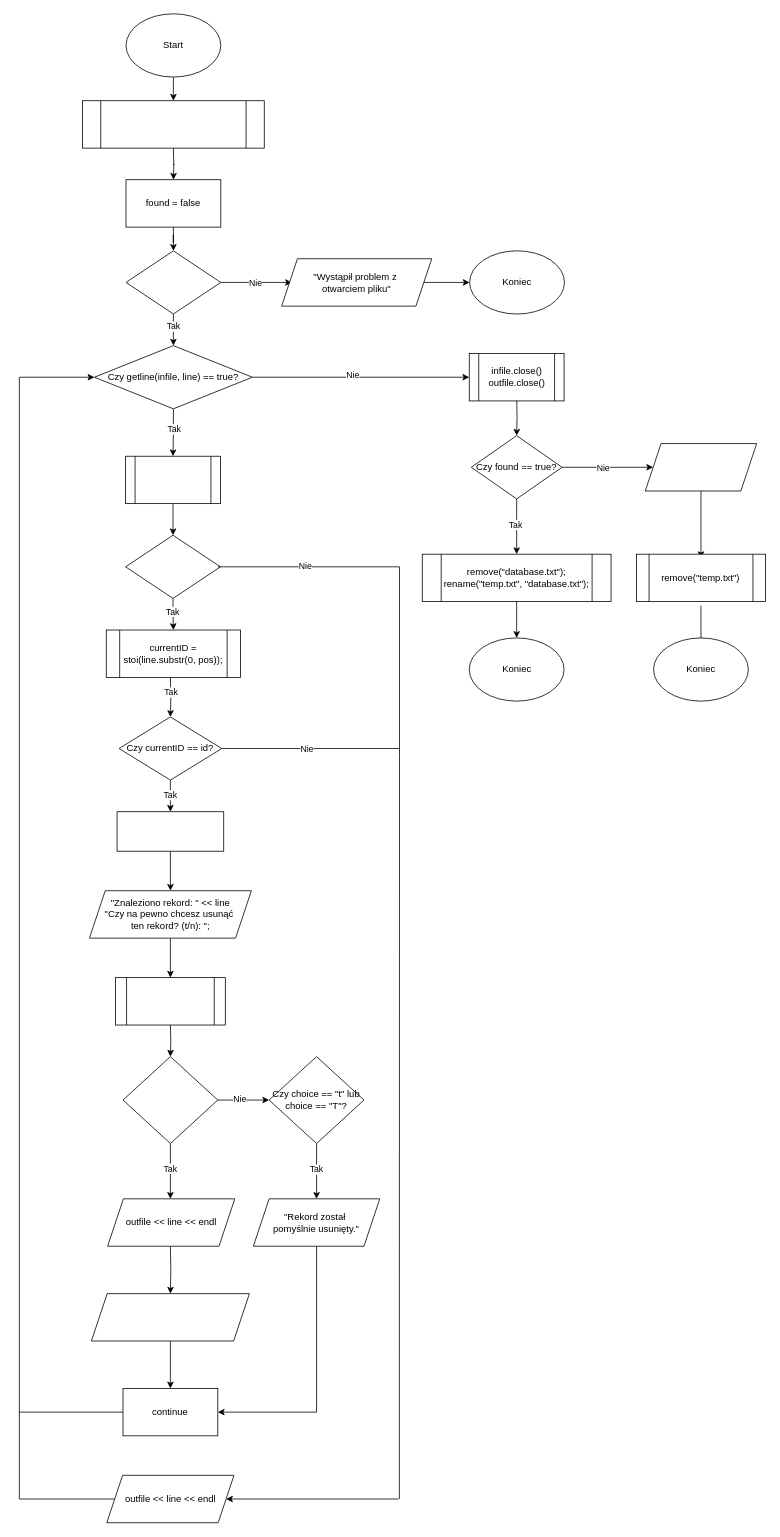
The diagram is 780 pixels wide and 1537 high, and some of its shapes have lost their labels. The shapes that lost their labels are listed below. From the top down, each one's centre as x and y in pixels, then its label:
pixel 173 124: ifstream infile("database.txt"); ofstream outfile("temp.txt");
pixel 173 282: Czy oba pliki są otwarte?
pixel 172 479: pos = line.find(';')
pixel 700 467: "Nie znaleziono rekordu o ID: id"
pixel 172 566: Czy pos != string::npos?
pixel 170 831: found = true
pixel 170 1001: getline(cin, choice)
pixel 170 1100: Czy choice == "n" lub choice == "N"?
pixel 170 1317: "Rekord nie został usunięty."
